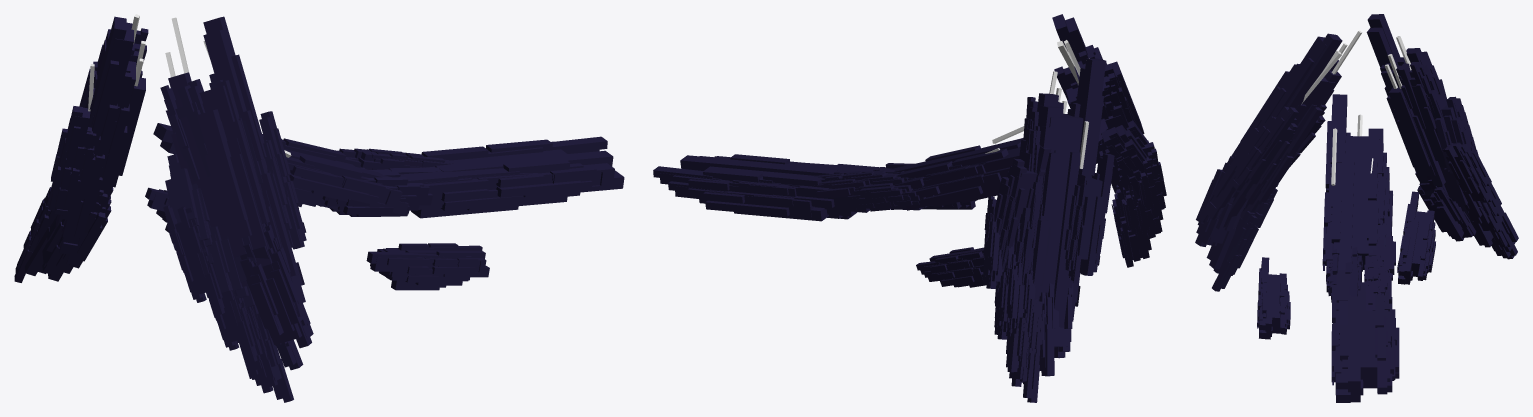
File: DesertEndRoad.fbx
The picture shows the model from 3 angles, left to right: view 1: azimuth 30°, elevation 25°; view 2: azimuth 150°, elevation 25°; view 3: azimuth 270°, elevation 25°; orthographic projection. The views are drawn at different scales.
Parts seen in each view (by area): view 1: Cube.033, Cube.034, Cube.014, Cube.011, Cube.030, Cube.001, Cube.002; view 2: Cube.034, Cube.033, Cube.014, Cube.011, Cube.032, Cube.003, Cube.002; view 3: Cube.034, Cube.033, Cube.011, Cube.014, Cube.032, Cube.030, Cube.002, Cube.001, Cube.003, Cube.042.
Part boxes in pixels (x1,y1,x2,y2): Cube.033: (160,16,313,402); Cube.034: (14,16,148,282); Cube.014: (399,136,624,218); Cube.011: (153,123,408,215); Cube.030: (366,243,489,290); Cube.001: (319,167,440,216); Cube.002: (354,148,453,169); Cube.034: (983,58,1114,402); Cube.033: (1052,14,1166,267); Cube.014: (653,154,891,221); Cube.011: (890,118,1107,210); Cube.032: (916,247,986,287); Cube.003: (847,174,925,211); Cube.002: (814,169,890,198); Cube.034: (1366,14,1518,259); Cube.033: (1195,33,1342,291); Cube.011: (1322,94,1392,292); Cube.014: (1331,260,1399,402); Cube.032: (1397,191,1435,284); Cube.030: (1257,257,1290,339); Cube.002: (1364,250,1391,310); Cube.001: (1326,244,1362,302); Cube.003: (1373,236,1395,280); Cube.042: (1301,51,1341,104).
Size of the model in its own units: 5785 by 3502 by 3969.
